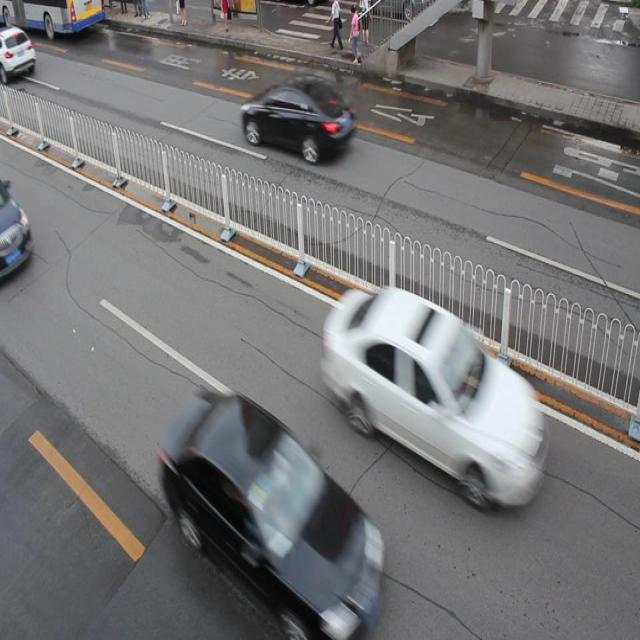car: (162, 395, 379, 629), (324, 281, 544, 508), (242, 73, 356, 163), (1, 25, 36, 86)
